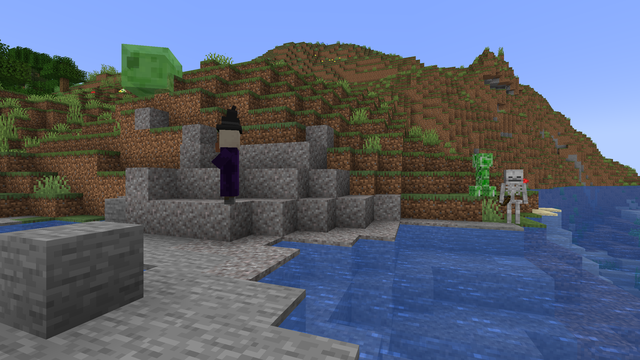creepers: (471, 150, 492, 195)
slimes: (119, 40, 186, 96)
sorcieres: (212, 125, 246, 204)
squelettes: (501, 169, 526, 224)
